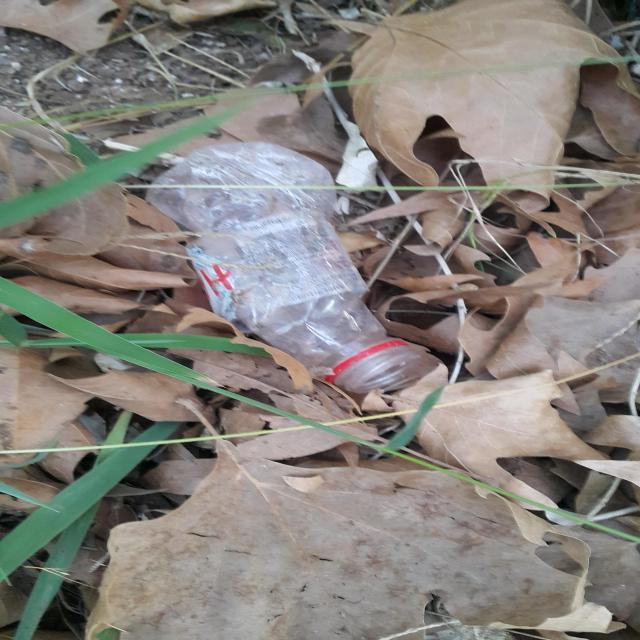Clear plastic bottle: (146, 142, 420, 393)
